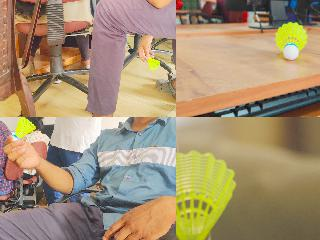shuttlecock: (176, 149, 235, 239), (275, 22, 307, 60), (10, 117, 36, 141), (145, 56, 159, 70)
